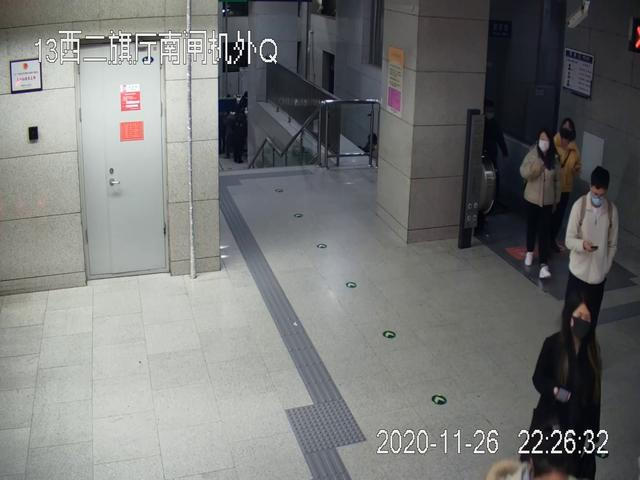person: (519, 296, 602, 480), (560, 167, 619, 343), (517, 125, 567, 280)
